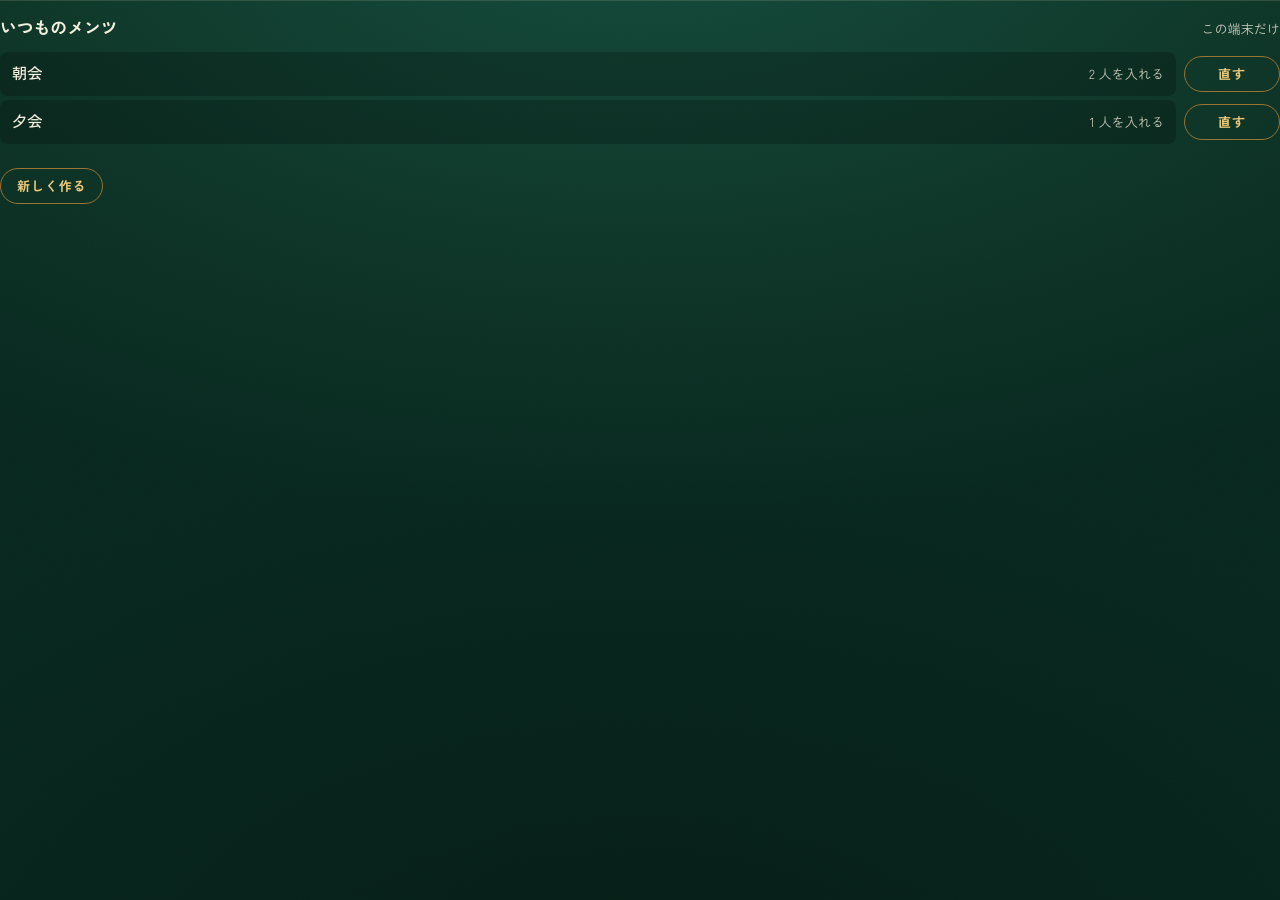
直す・消す › Given このメンツを消す / Then 確認が出てフォーカスはやめる
Step 1. Click the button with aria-label "朝会 を直す" → (1232, 74), box [1184,56,1279,92]
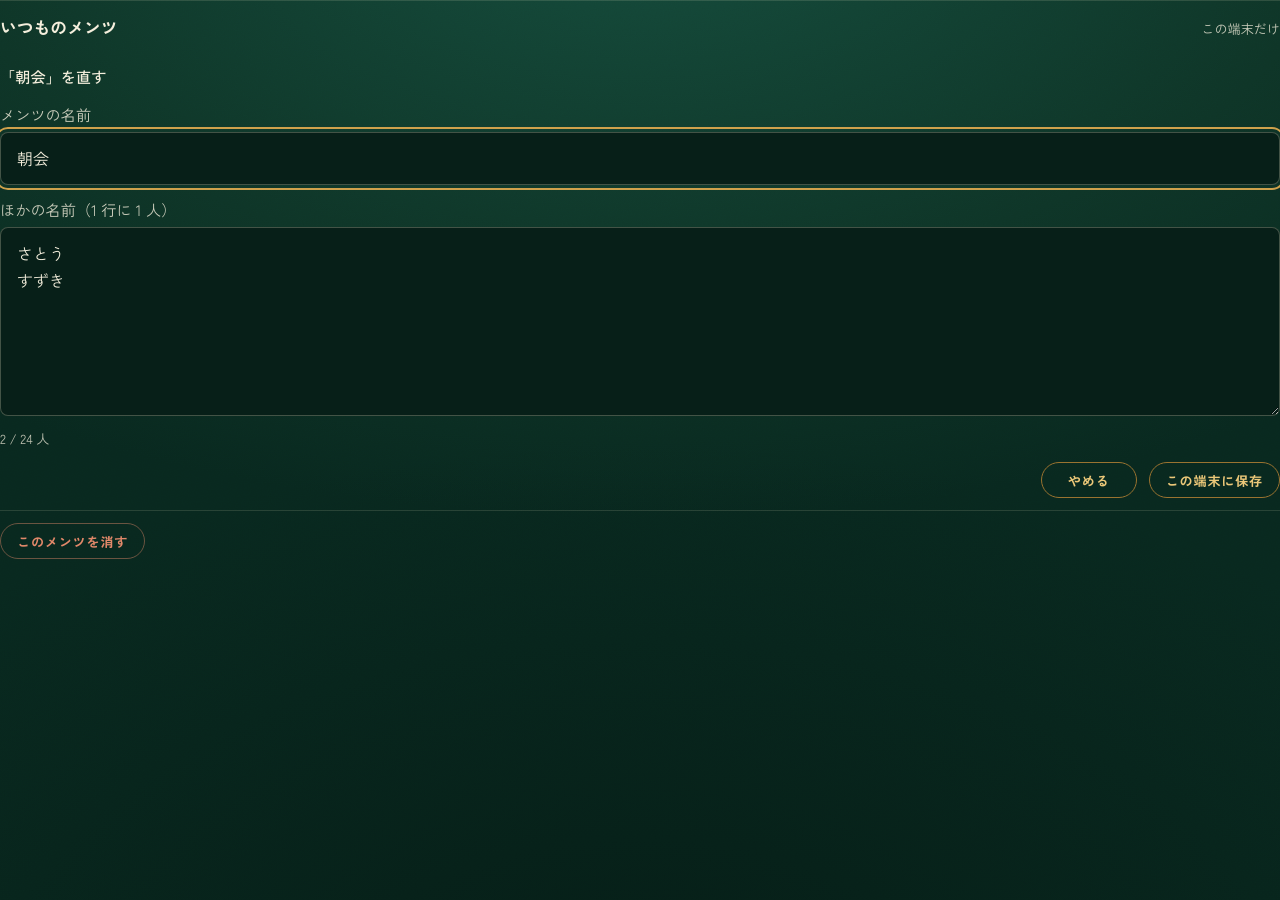
Step 2. Click the button "このメンツを消す" → (73, 542), box [0,524,145,560]
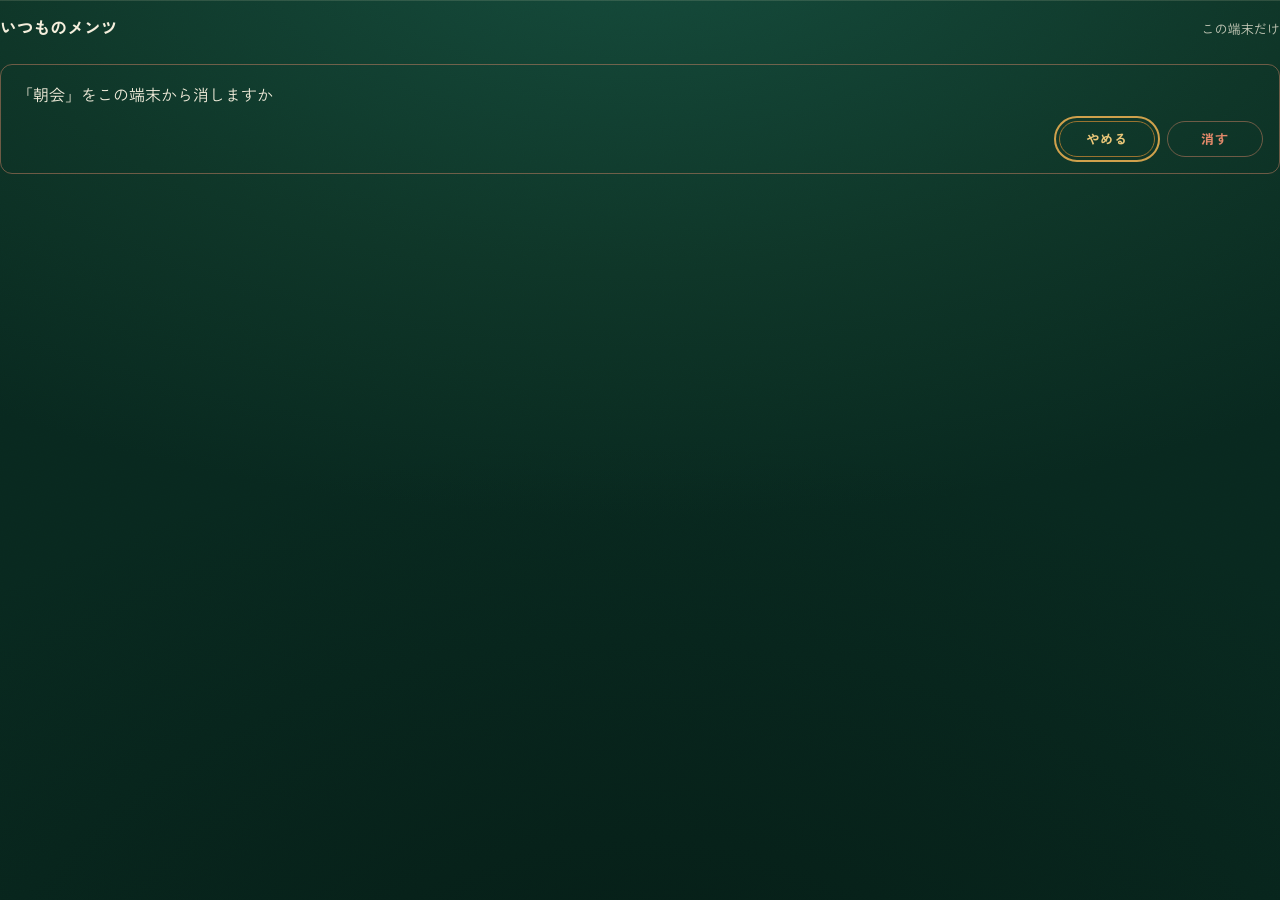
Expected: the text "「朝会」をこの端末から消しますか" is shown, [17,82,273,106]
